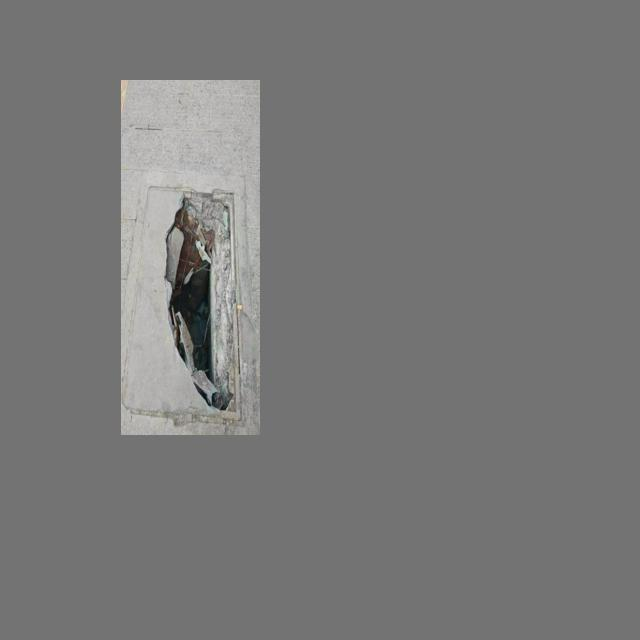broke: (128, 176, 247, 419)
